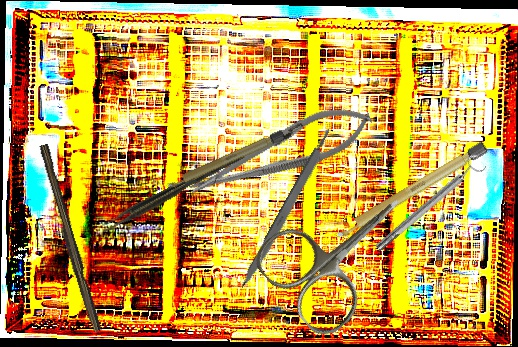Fixation Ring: (369, 151, 489, 257)
Iris Scissors: (248, 158, 436, 344)
Needle Holder: (180, 93, 380, 212)
Scalpel Handle: (330, 140, 490, 243), (238, 126, 337, 292), (33, 143, 105, 334), (163, 128, 287, 192)
Tissue Forceps: (98, 150, 248, 235)
